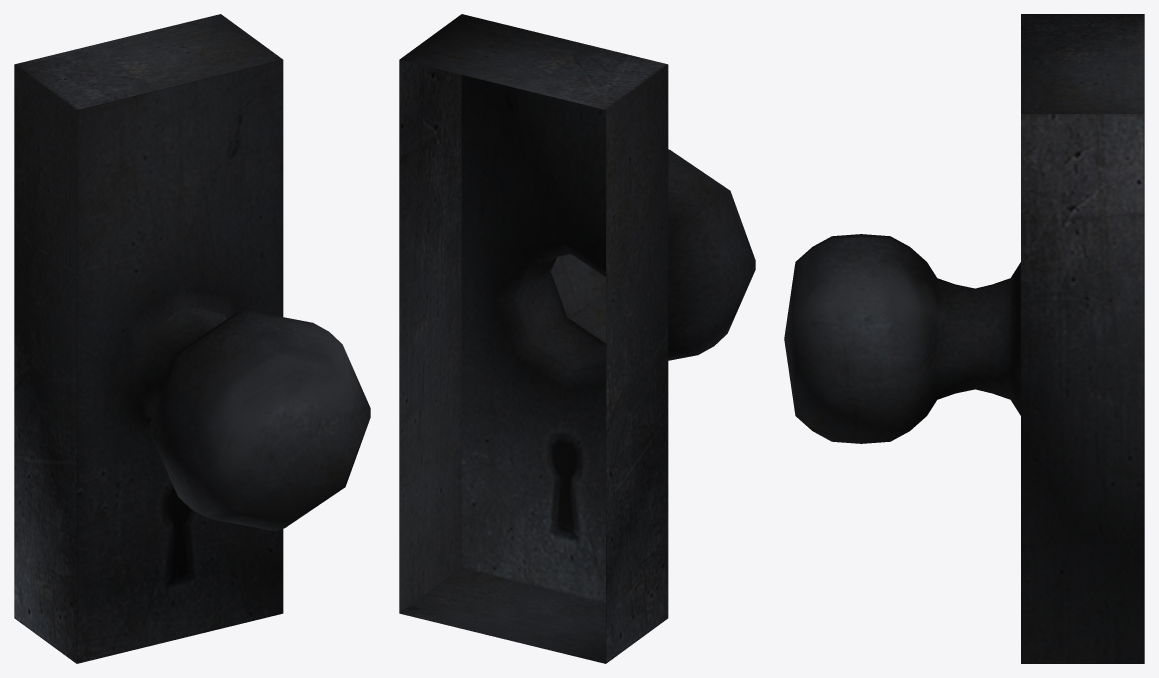
The model's file is West_Berlin-Doorknob.fbx.
3 views of the same model, side by side, from view 1: azimuth 30°, elevation 25°; view 2: azimuth 150°, elevation 25°; view 3: azimuth 270°, elevation 25° (orthographic).
Parts seen in each view (by area): view 1: Cube.002; view 2: Cube.002; view 3: Cube.002.
Part boxes in pixels (x1,y1,x2,y2): Cube.002: (14,14,370,663); Cube.002: (399,14,755,663); Cube.002: (784,14,1144,663).
Size of the model in its own units: 22.17 by 56.8 by 33.76.
